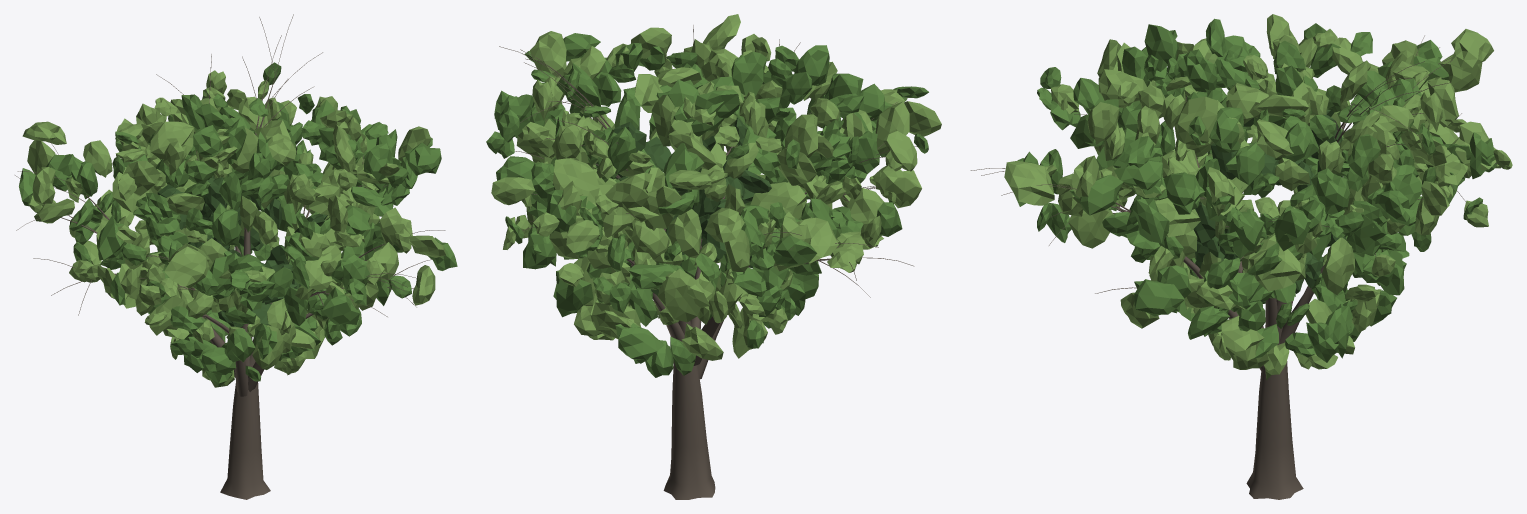
Rendered from hp-great-elm.glb.
The picture shows the model from 3 angles, left to right: view 1: azimuth 30°, elevation 25°; view 2: azimuth 150°, elevation 25°; view 3: azimuth 270°, elevation 25°; orthographic projection. The views are drawn at different scales.
Visible parts, largest first — view 1: ElmBark, Leaf_514, Leaf_217, Leaf_030, Leaf_528, Leaf_466, Leaf_130, Leaf_101, Leaf_083, Leaf_391, Leaf_429, Leaf_060 (+41 smaller); view 2: ElmBark, Leaf_486, Leaf_116, Leaf_351, Leaf_276, Leaf_235, Leaf_171, Leaf_508, Leaf_150, Leaf_411, Leaf_224, Leaf_101 (+71 smaller); view 3: ElmBark, Leaf_532, Leaf_525, Leaf_159, Leaf_113, Leaf_012, Leaf_043, Leaf_494, Leaf_199, Leaf_344, Leaf_466, Leaf_099 (+56 smaller).
Boxes of the visible parts, x1,y1,x2,y2 form: ElmBark: [15, 14, 445, 499]; Leaf_514: [164, 246, 209, 288]; Leaf_217: [150, 121, 194, 159]; Leaf_030: [211, 203, 241, 246]; Leaf_528: [322, 287, 359, 325]; Leaf_466: [404, 142, 441, 175]; Leaf_130: [97, 215, 126, 260]; Leaf_101: [119, 160, 160, 196]; Leaf_083: [83, 140, 112, 177]; Leaf_391: [32, 167, 55, 206]; Leaf_429: [379, 207, 412, 246]; Leaf_060: [227, 328, 255, 362]; ElmBark: [499, 25, 917, 499]; Leaf_486: [657, 268, 705, 322]; Leaf_116: [553, 158, 599, 204]; Leaf_351: [530, 31, 566, 76]; Leaf_276: [615, 323, 664, 363]; Leaf_235: [731, 51, 767, 96]; Leaf_171: [668, 209, 701, 258]; Leaf_508: [879, 165, 921, 208]; Leaf_150: [605, 172, 652, 208]; Leaf_411: [875, 101, 909, 154]; Leaf_224: [750, 182, 806, 216]; Leaf_101: [784, 114, 817, 157]; ElmBark: [970, 35, 1496, 499]; Leaf_532: [1004, 160, 1054, 205]; Leaf_525: [1134, 279, 1184, 316]; Leaf_159: [1174, 96, 1218, 145]; Leaf_113: [1321, 237, 1354, 294]; Leaf_012: [1311, 168, 1350, 214]; Leaf_043: [1249, 246, 1301, 291]; Leaf_494: [1450, 29, 1493, 67]; Leaf_199: [1209, 107, 1243, 152]; Leaf_344: [1274, 205, 1310, 251]; Leaf_466: [1163, 172, 1200, 214]; Leaf_099: [1132, 199, 1169, 243].
Bounding box in the file's own units: 23.65 × 25.29 × 26.29.
